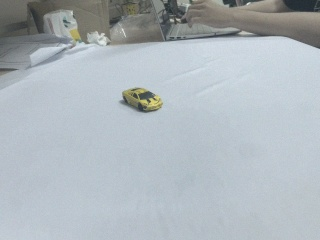toy_car: (122, 87, 163, 113)
